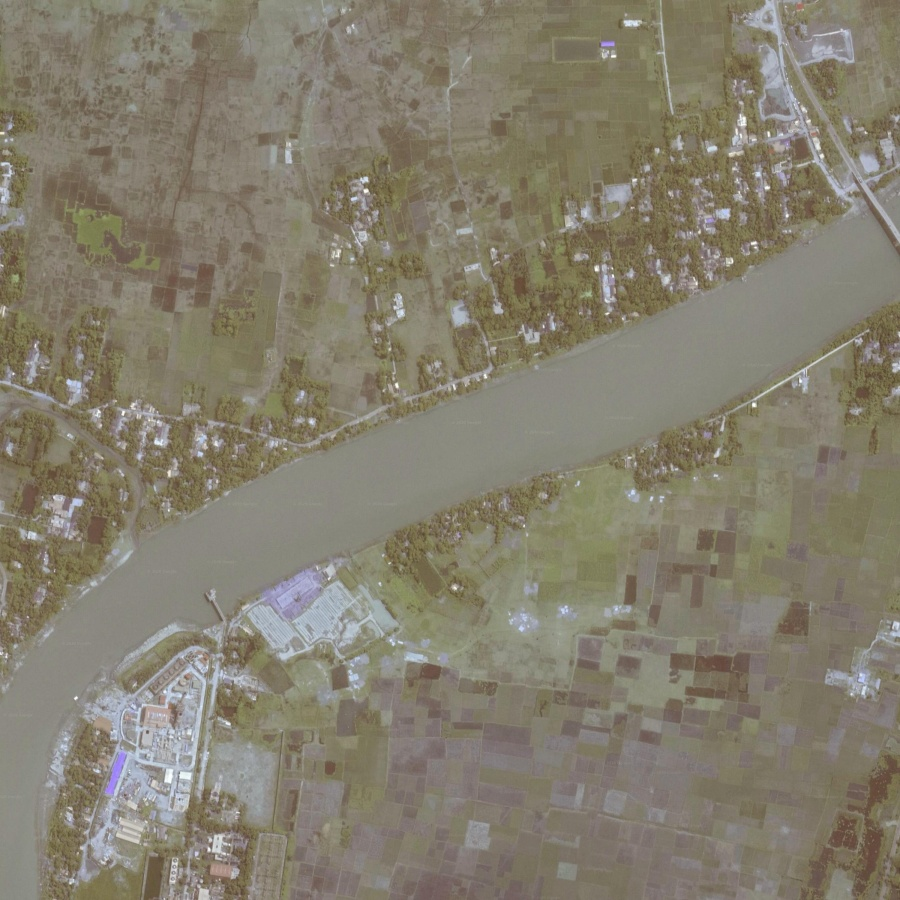PowerPlant: (132, 657, 203, 812)
